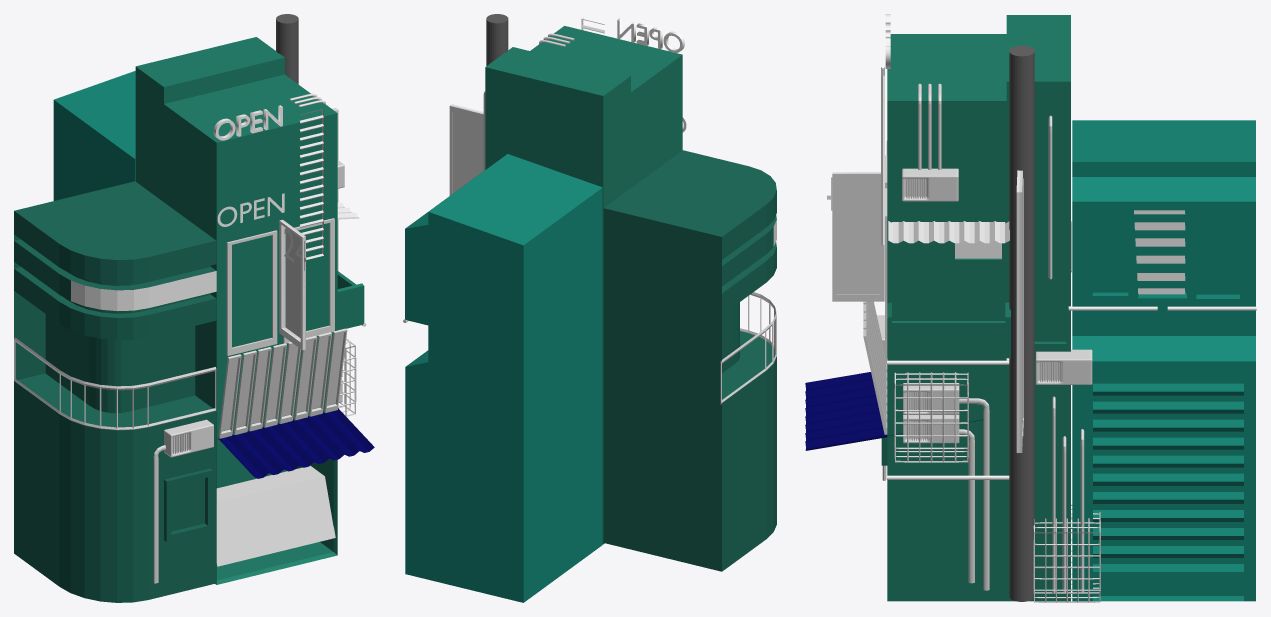
File: edificio3.glb
3 renders of one model, left to right at view 1: azimuth 30°, elevation 25°; view 2: azimuth 150°, elevation 25°; view 3: azimuth 270°, elevation 25°, orthographic. The views are drawn at different scales.
Parts seen in each view (by area): view 1: Cube.002, Cube.001, Cube.013, Cube.003, Plane, Cube.034, Cube.014, Plane.011, Plane.010, Plane.014, Plane.016, Cube.005 (+14 smaller); view 2: Cube.003, Cube.002, Cube.001, Plane.012, Cube.014, Cylinder.038, Text.002; view 3: Cube.003, Cube.001, Cylinder.038, Plane.011, Plane, Cube.011, Plane.013, Cube.010, Cube.012, Cube.015, Cube.009, Cylinder.037 (+13 smaller).
Boxes of the visible parts, <box> form: Cube.002: <box>14,181,216,602</box>; Cube.001: <box>135,37,364,584</box>; Cube.013: <box>216,465,335,566</box>; Cube.003: <box>53,71,135,200</box>; Plane: <box>218,408,374,478</box>; Cube.034: <box>71,271,216,311</box>; Cube.014: <box>14,337,216,430</box>; Plane.011: <box>281,219,305,349</box>; Plane.010: <box>226,230,277,355</box>; Plane.014: <box>300,108,323,259</box>; Plane.016: <box>279,220,304,350</box>; Cube.005: <box>164,419,213,457</box>; Cube.003: <box>405,154,602,602</box>; Cube.002: <box>603,150,776,571</box>; Cube.001: <box>485,26,682,544</box>; Plane.012: <box>449,105,483,195</box>; Cube.014: <box>720,292,776,404</box>; Cylinder.038: <box>486,14,508,65</box>; Text.002: <box>617,18,684,52</box>; Cube.003: <box>1072,120,1255,601</box>; Cube.001: <box>887,15,1070,601</box>; Cylinder.038: <box>1009,45,1034,601</box>; Plane.011: <box>832,172,884,301</box>; Plane: <box>805,372,982,450</box>; Cube.011: <box>894,372,968,462</box>; Plane.013: <box>888,221,1009,243</box>; Cube.010: <box>1033,504,1100,602</box>; Cube.012: <box>1035,349,1092,384</box>; Cube.015: <box>902,168,958,201</box>; Cube.009: <box>903,383,959,414</box>; Cylinder.037: <box>959,398,989,590</box>.
Size of the model in its own units: 4.27 by 6.68 by 4.92.
